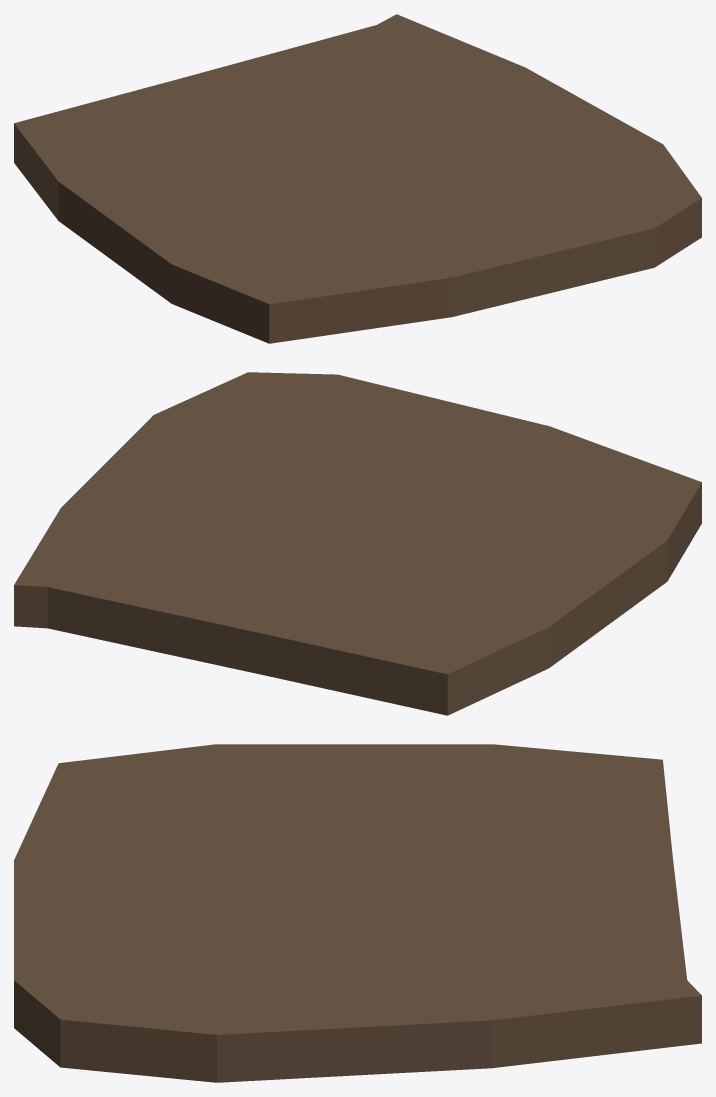
File: dirt.glb
3 views of the same model, one above another, from view 1: azimuth 30°, elevation 25°; view 2: azimuth 150°, elevation 25°; view 3: azimuth 270°, elevation 25° (orthographic). The views are drawn at different scales.
Visible parts, largest first — view 1: dirt; view 2: dirt; view 3: dirt.
Boxes of the visible parts, box(x1,y1,x2,y2) form: dirt: box(14, 14, 701, 343); dirt: box(14, 372, 701, 715); dirt: box(14, 744, 701, 1082).
Bounding box in the file's own units: 2 × 0.1536 × 2.
